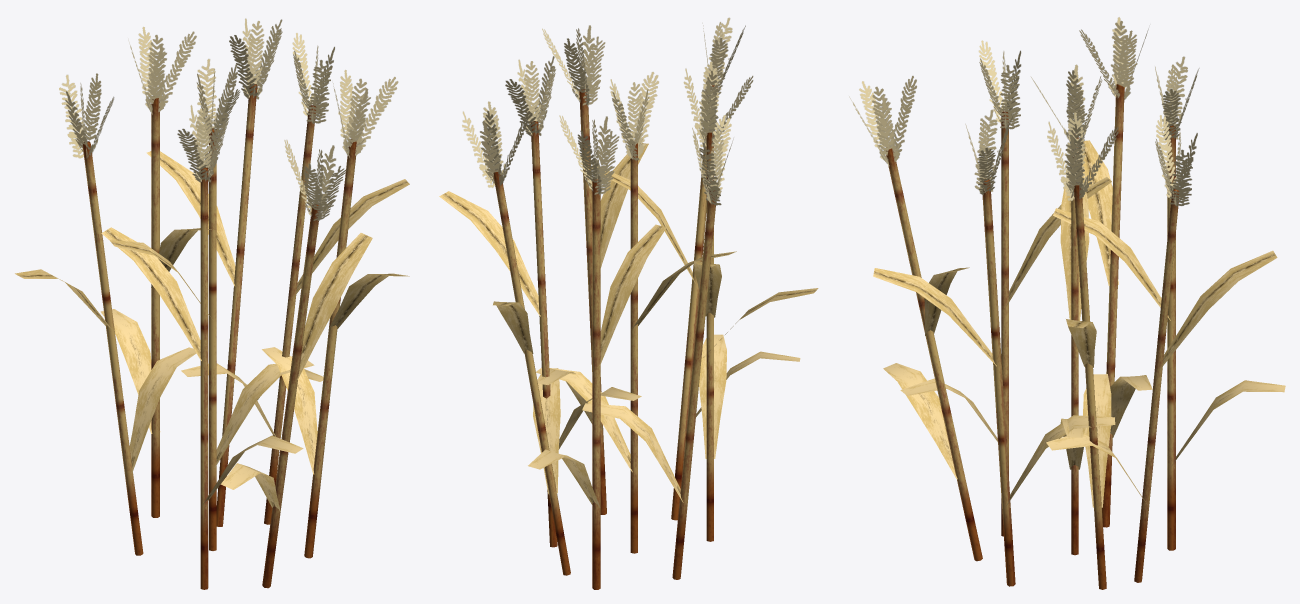
File: Mod_Corn.gltf
3 views of the same model, side by side, from view 1: azimuth 30°, elevation 25°; view 2: azimuth 150°, elevation 25°; view 3: azimuth 270°, elevation 25° (orthographic). The views are drawn at different scales.
Visible parts, largest first — view 1: Corn; view 2: Corn; view 3: Corn.
Boxes of the visible parts, x1=… form: Corn: x1=15, y1=18, x2=409, y2=589; Corn: x1=439, y1=17, x2=818, y2=589; Corn: x1=849, y1=17, x2=1285, y2=589.
Bounding box in the file's own units: 6.26 × 7.58 × 6.1.
Materials: 1 (1 with a texture image).
